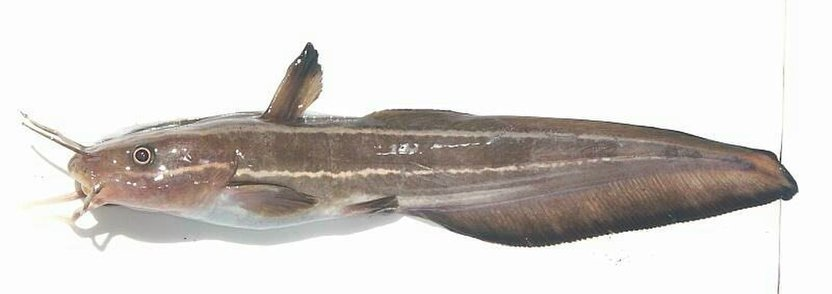gonzui: (50, 60, 807, 259)
